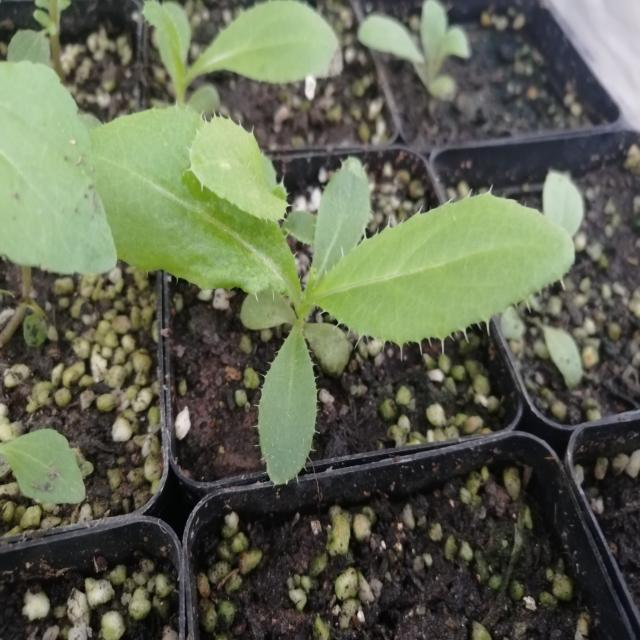field_thistle: (105, 102, 573, 445)
